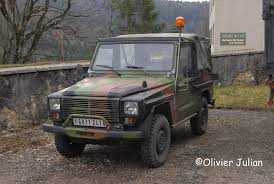license_plate: (73, 116, 107, 129)
